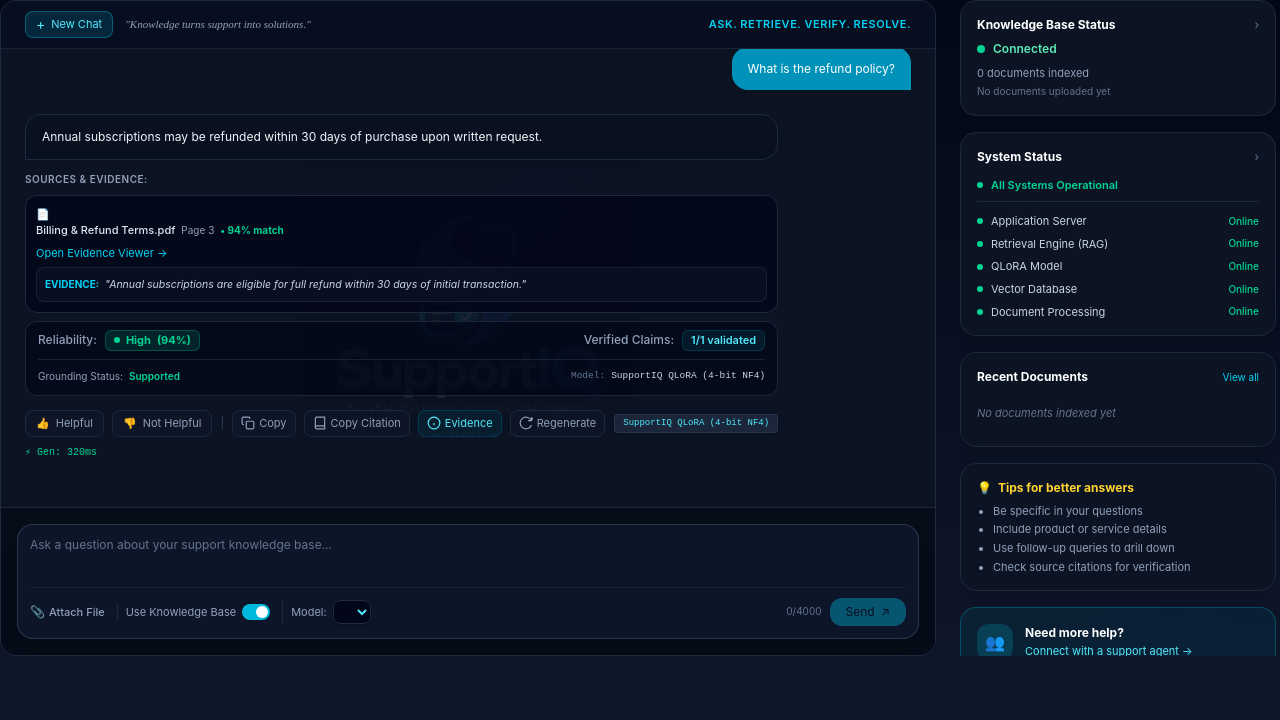
Test: Chat Answer Feedback & Action Controls › copies answer text to clipboard when Copy button is clicked
The width and height of the screenshot is (1280, 720).
(page scrolled)
Check: the text "Annual subscriptions may be refunded" is shown, box x1=42 y1=129 x2=542 y2=144
Click the button with aria-label "Copy answer to clipboard": [264, 423] box x1=232 y1=410 x2=296 y2=436
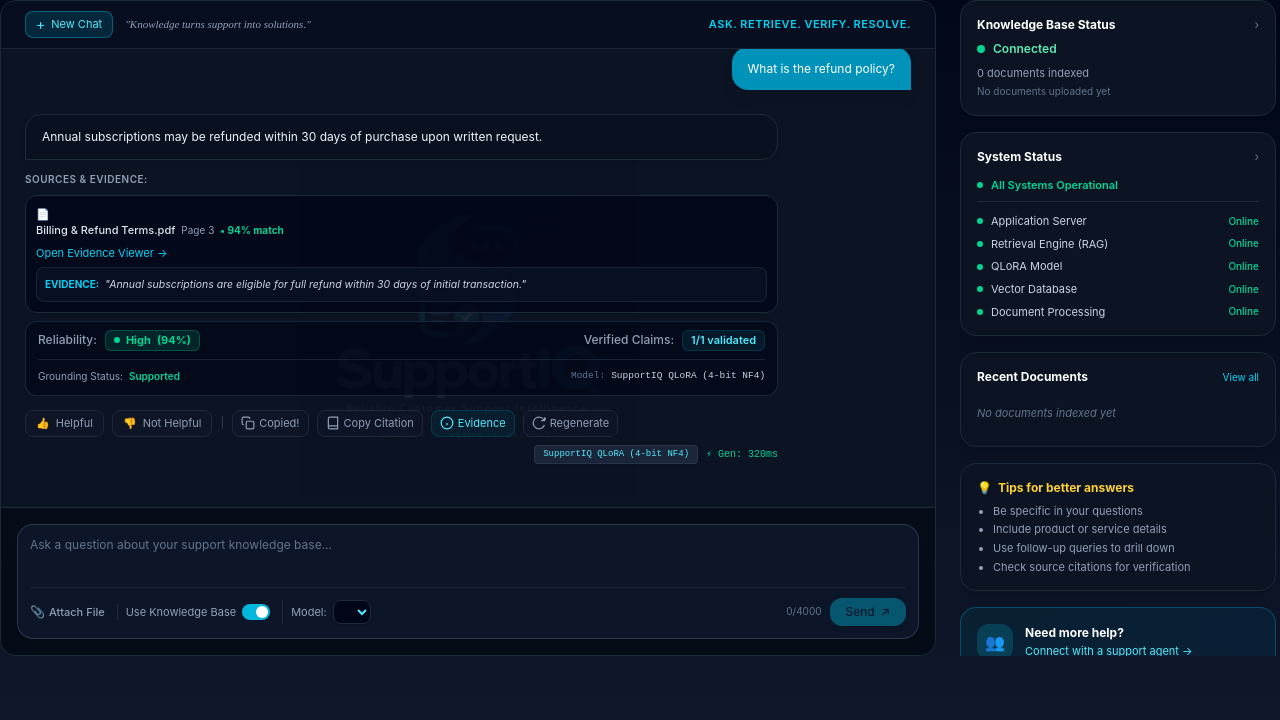
Check: the text "Copied!" is shown, box x1=259 y1=415 x2=300 y2=432
